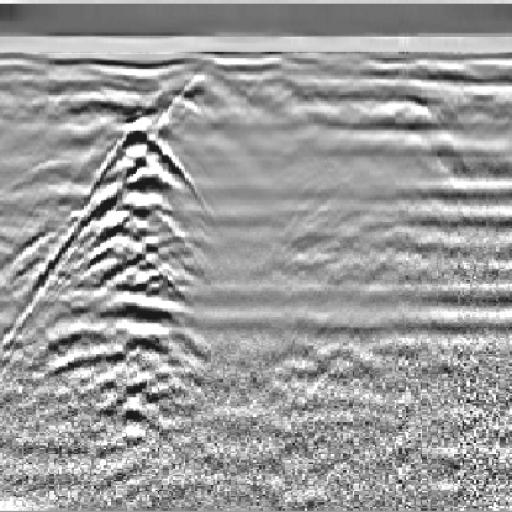metalic: (14, 87, 247, 457)
